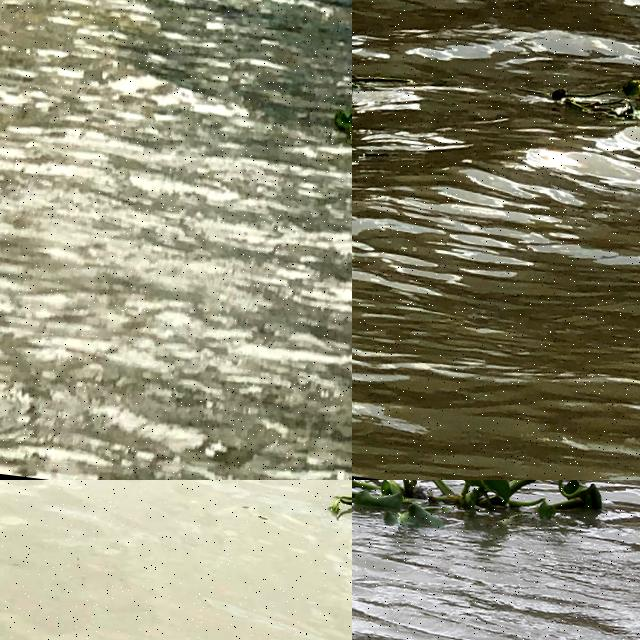water-hyacinth: (353, 481, 620, 570), (522, 73, 640, 123)
